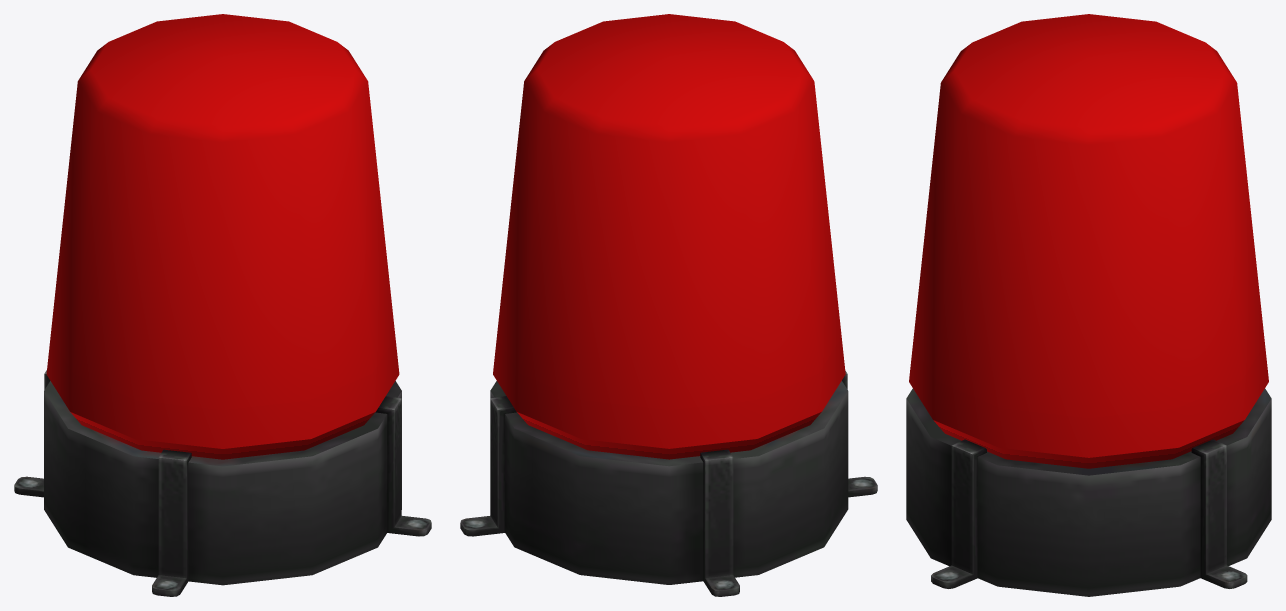
File: emergency_lighta.glb
3 views of the same model, side by side, from view 1: azimuth 30°, elevation 25°; view 2: azimuth 150°, elevation 25°; view 3: azimuth 270°, elevation 25° (orthographic). The views are drawn at different scales.
Parts seen in each view (by area): view 1: emergency_lighta; view 2: emergency_lighta; view 3: emergency_lighta.
Boxes of the visible parts, x1=… form: emergency_lighta: x1=14, y1=14, x2=431, y2=596; emergency_lighta: x1=460, y1=14, x2=877, y2=596; emergency_lighta: x1=906, y1=14, x2=1271, y2=596.
Size of the model in its own units: 0.2027 by 0.2831 by 0.2027.
2 materials, 2 textured.
